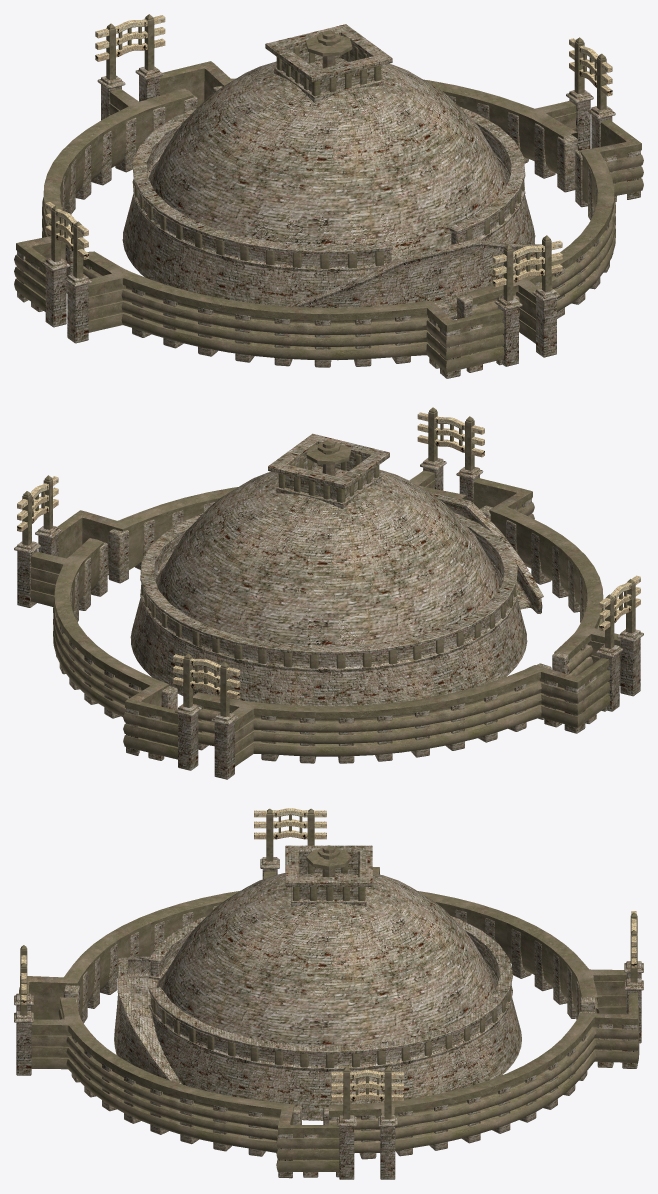
The model's file is SanchiStupa.glb.
3 views of the same model, one above another, from view 1: azimuth 30°, elevation 25°; view 2: azimuth 150°, elevation 25°; view 3: azimuth 270°, elevation 25° (orthographic). The views are drawn at different scales.
Visible parts, largest first — view 1: Sphere_0, Sphere.002_2, Sphere.001_1, Cube.001_7, Cube_5, Cube.007_14, Cube.004_9, Cube.006_12, Cube.002_8, Cube.005_10, Cylinder_11, Cube.008_15; view 2: Sphere_0, Sphere.002_2, Sphere.001_1, Cube.001_7, Cube_5, Cube.007_14, Cube.004_9, Cube.006_12, Cube.002_8, Cube.005_10, Cylinder_11; view 3: Sphere.002_2, Sphere_0, Sphere.001_1, Cube_5, Cube.001_7, Cube.004_9, Cube.007_14, Cube.006_12, Cube.002_8, Cylinder_11, Cube.005_10.
Part boxes in pixels (x1,y1,x2,y2): Sphere_0: (150,58,507,261); Sphere.002_2: (14,61,643,372); Sphere.001_1: (122,105,541,319); Cube.001_7: (17,66,640,378); Cube_5: (45,86,613,367); Cube.007_14: (45,15,612,287); Cube.004_9: (265,24,392,102); Cube.006_12: (51,14,606,301); Cube.002_8: (133,180,524,268); Cube.005_10: (276,45,381,95); Cylinder_11: (305,31,352,68); Cube.008_15: (59,27,596,275); Sphere_0: (157,466,500,645); Sphere.002_2: (30,470,620,766); Sphere.001_1: (130,491,543,706); Cube.001_7: (14,458,643,779); Cube_5: (55,499,597,763); Cube.007_14: (17,412,640,699); Cube.004_9: (268,433,389,509); Cube.006_12: (22,407,635,716); Cube.002_8: (141,583,516,668); Cube.005_10: (278,454,379,502); Cylinder_11: (306,440,351,475); Sphere.002_2: (19,867,639,1171); Sphere_0: (161,873,495,1045); Sphere.001_1: (114,916,521,1120); Cube_5: (63,905,595,1159); Cube.001_7: (14,857,643,1179); Cube.004_9: (285,845,372,906); Cube.007_14: (21,808,636,1101); Cube.006_12: (20,808,637,1119); Cube.002_8: (153,984,511,1067); Cylinder_11: (306,845,351,876); Cube.005_10: (292,855,365,900).
Size of the model in its own units: 3.56 by 1.25 by 3.56.
3 materials, 3 textured.
